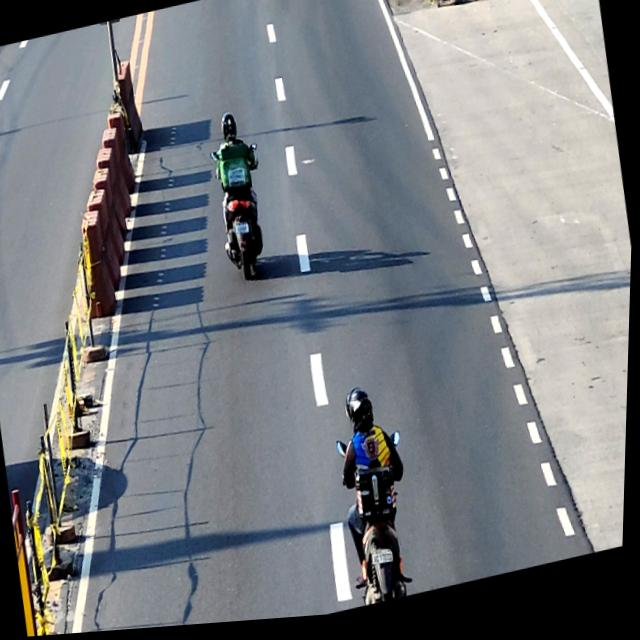License-Plate: (373, 553, 399, 573), (235, 225, 251, 240)
Motorcycle: (333, 429, 428, 615), (207, 138, 280, 290)
